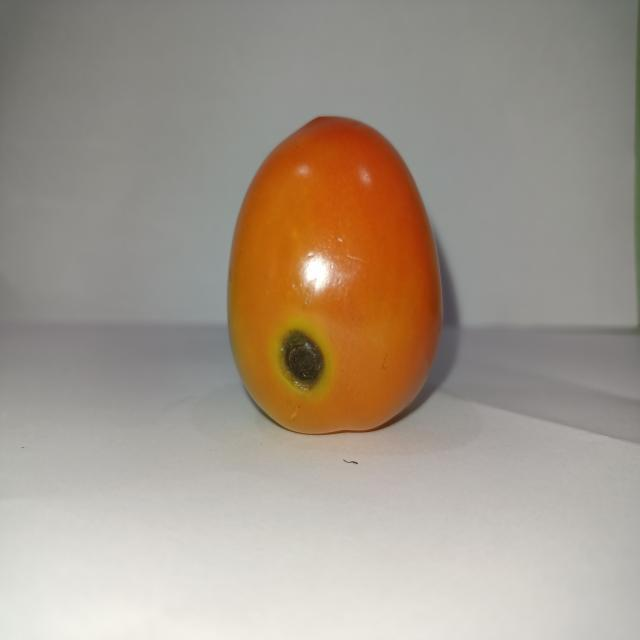Red: (225, 113, 444, 435)
